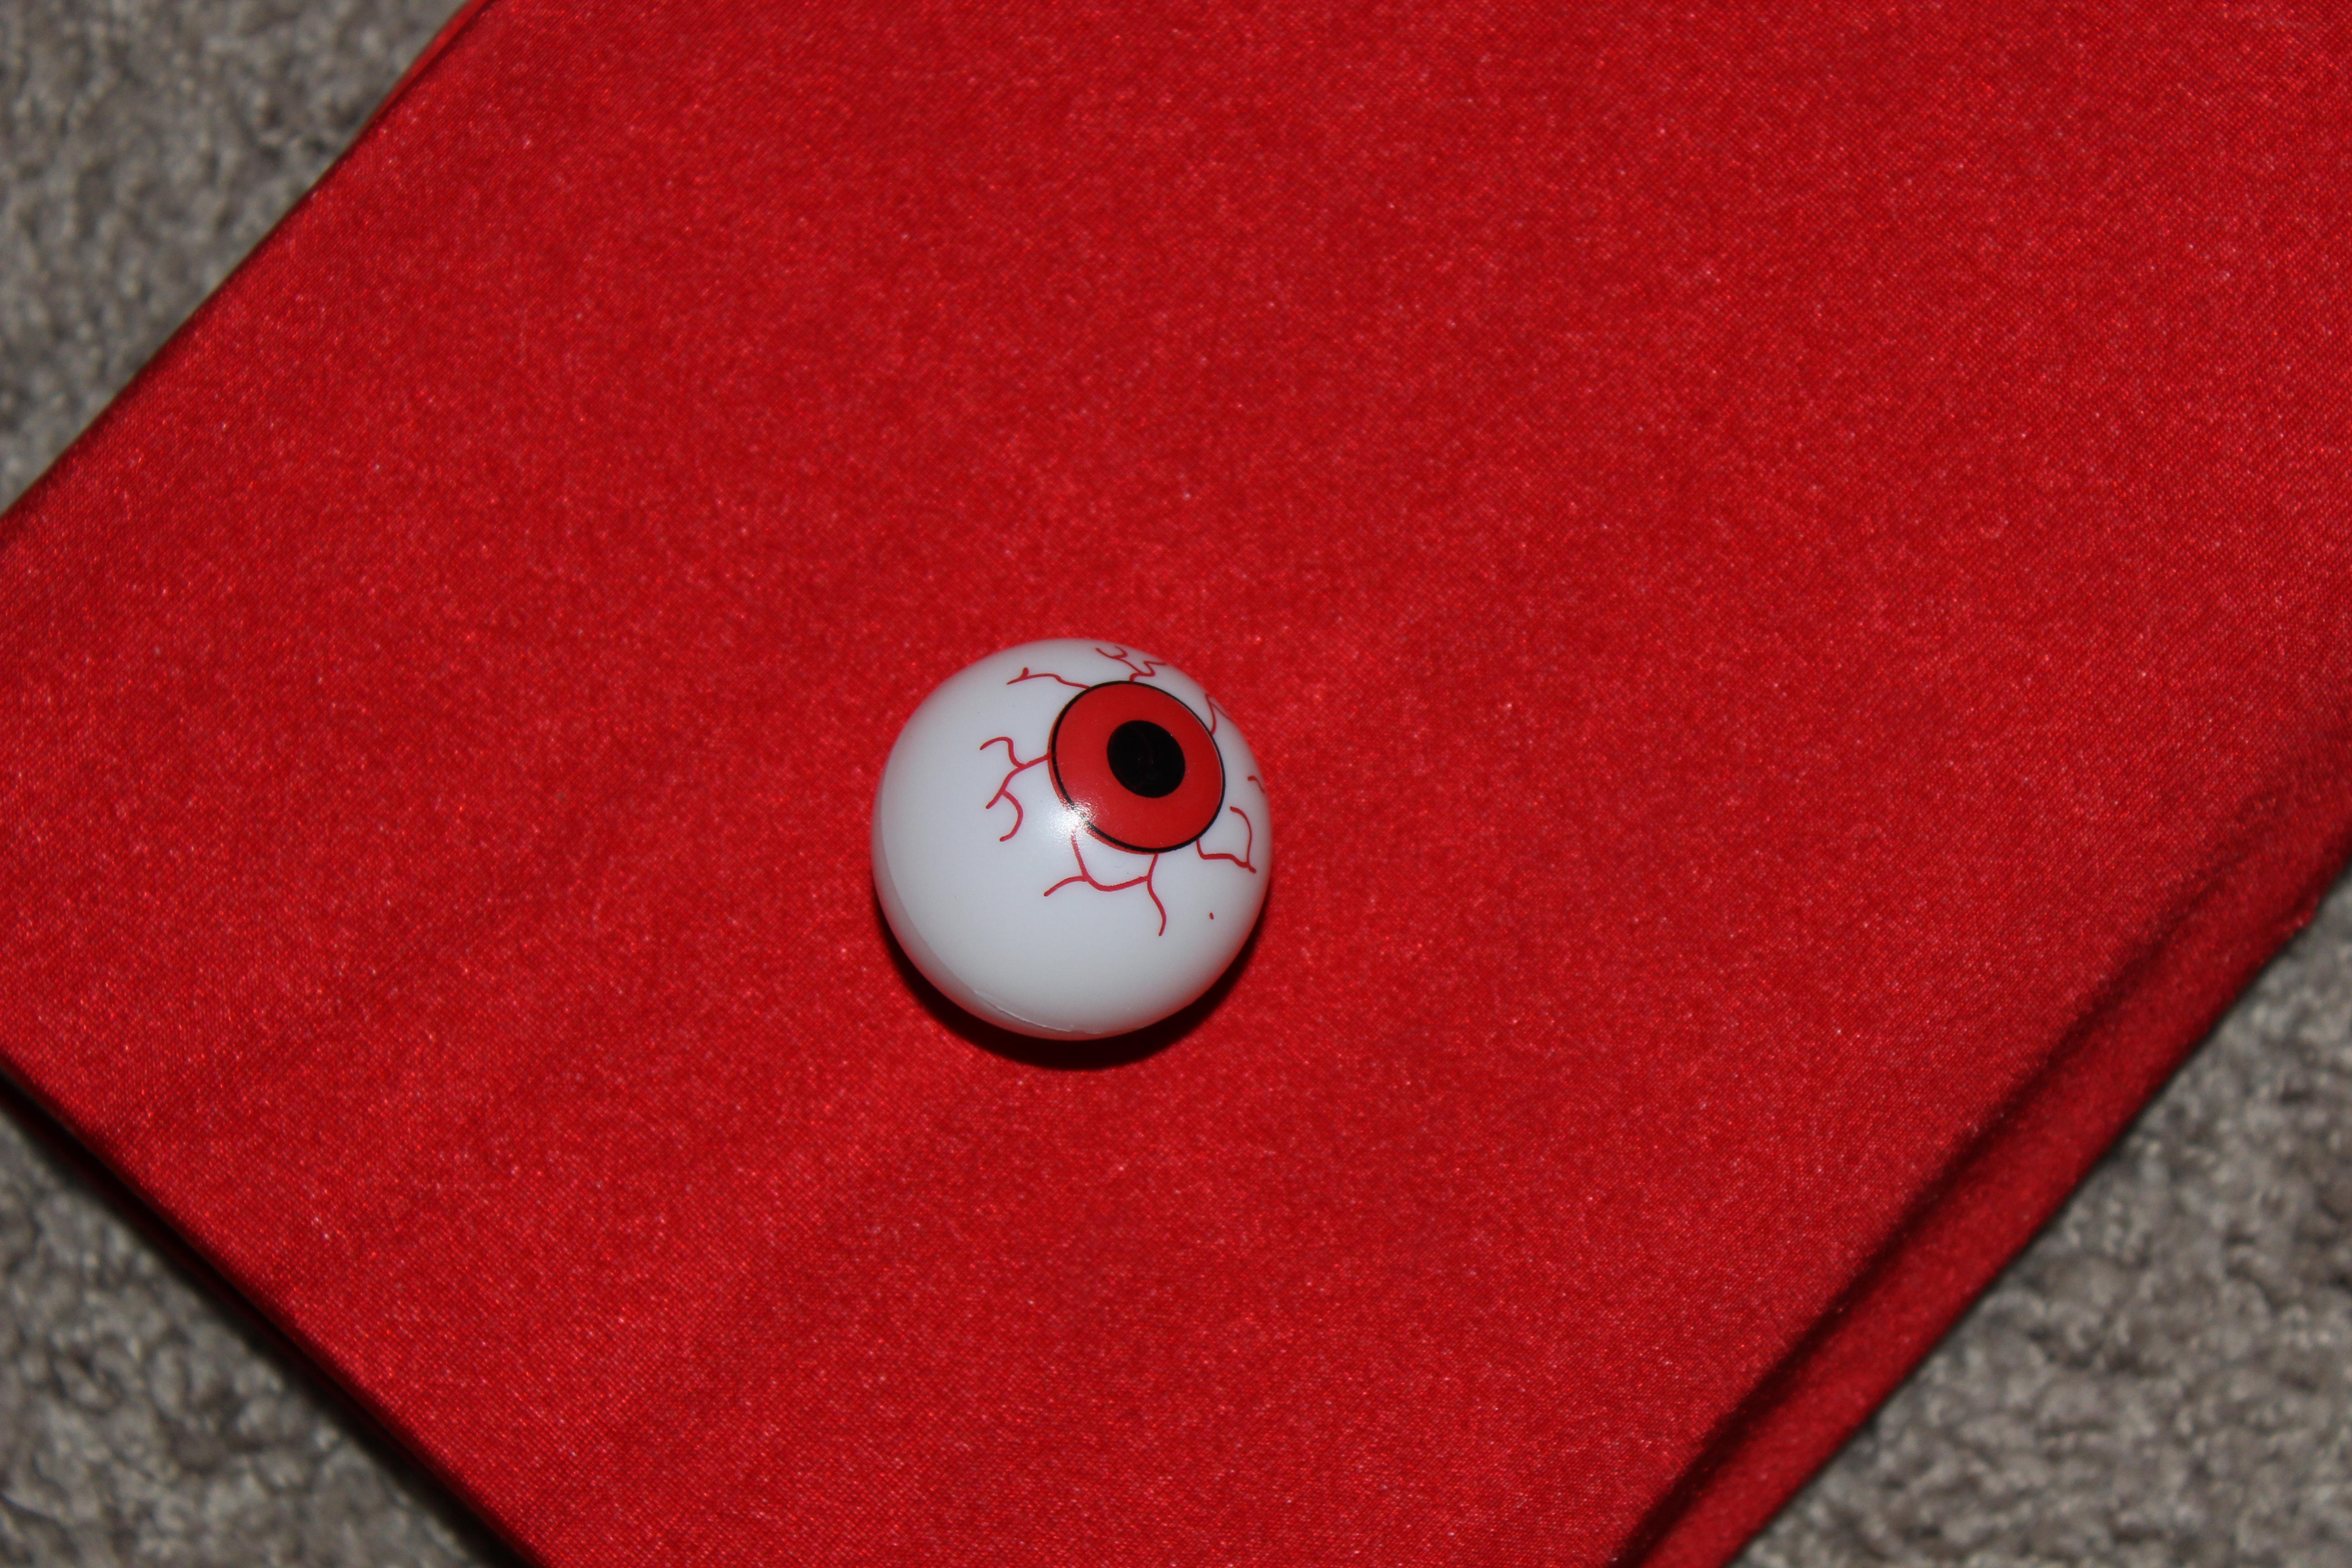eyeball: (833, 618, 1311, 1093)
